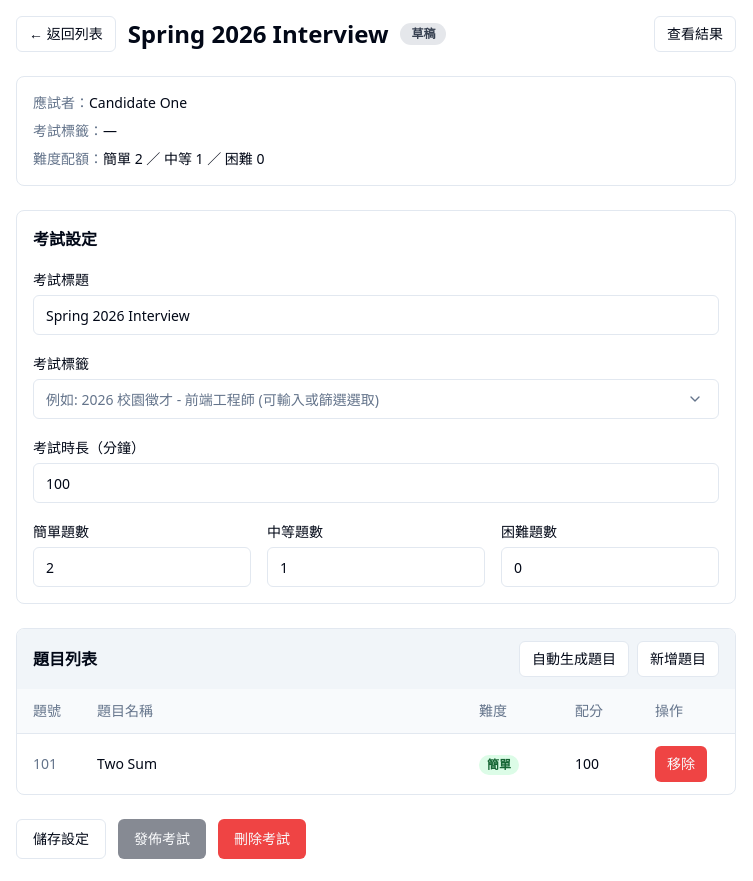
ExamDetailPage › auto generates problems successfully
Expected: the heading "Spring 2026 Interview" is shown, [128,18,388,50]
Click the button "自動生成題目" at {"x": 574, "y": 659}, box [519,641,629,677]
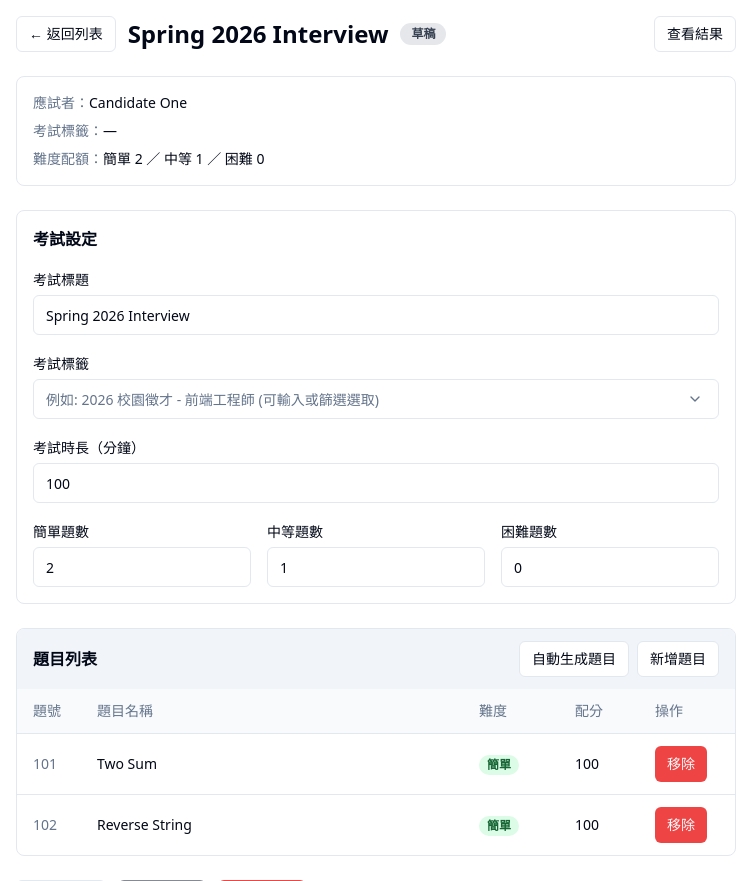
Expected: the text "Reverse String" is shown, [81,794,463,855]
